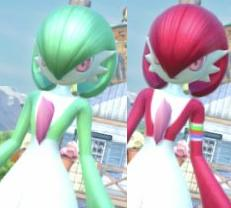gardevoir: (1, 4, 118, 208)
